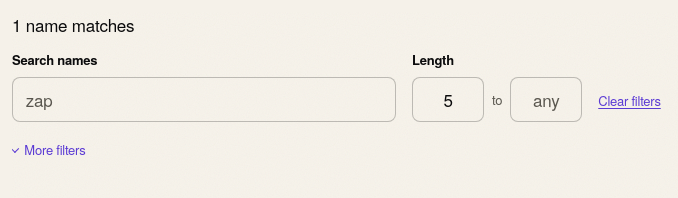
Test: Toolbar length range › says so for text the field cannot read at all, which reports no value
The width and height of the screenshot is (678, 198).
Expected: the message reads "1 name matches", [12, 12, 134, 37]
Clear the number field named "Shortest label length" at (448, 100), box [412, 77, 484, 122]
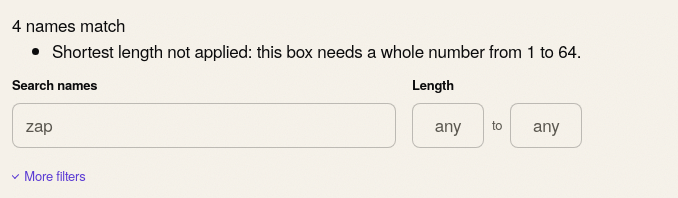
Result: the list "not applied" reads "Shortest length not applied: this box needs a whole number from 1 to 64." at [52, 38, 581, 62]
Result: the message reads "4 names match" at [12, 12, 125, 37]
